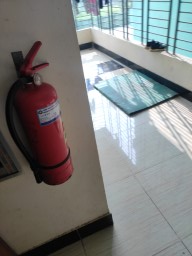fire_extinguisher: (30, 157, 139, 248)
